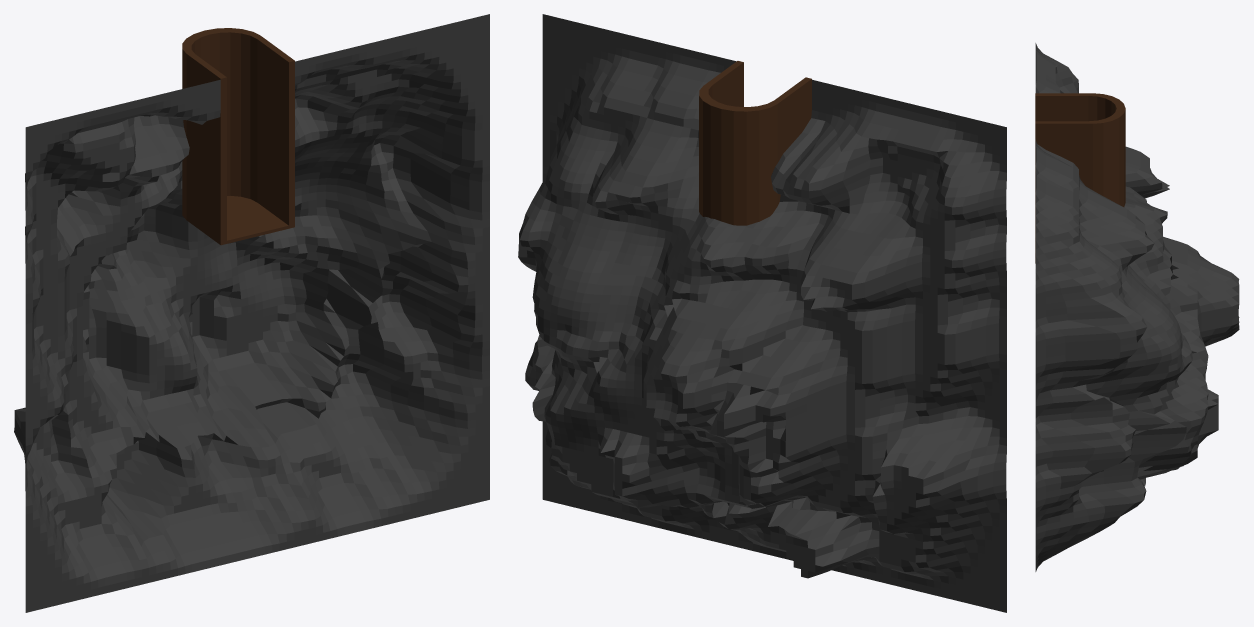
Rendered from Mountain.fbx.
The picture shows the model from 3 angles, left to right: view 1: azimuth 30°, elevation 25°; view 2: azimuth 150°, elevation 25°; view 3: azimuth 270°, elevation 25°; orthographic projection. The views are drawn at different scales.
Parts seen in each view (by area): view 1: Mountain; view 2: Mountain; view 3: Mountain.
Part boxes in pixels (x1,y1,x2,y2): Mountain: (14, 14, 489, 612); Mountain: (518, 14, 1006, 612); Mountain: (1035, 43, 1239, 571).
Size of the model in its own units: 5000 by 5009 by 2263.
